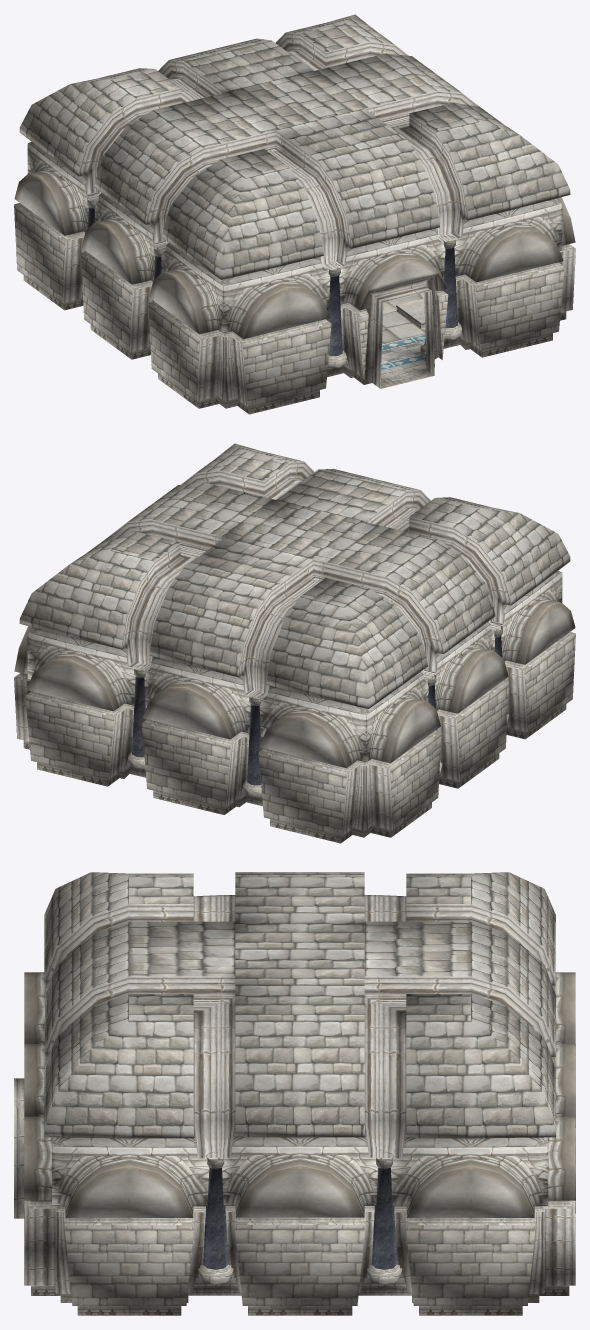
The model's file is stormwind_172.fbx.
3 views of the same model, one above another, from view 1: azimuth 30°, elevation 25°; view 2: azimuth 150°, elevation 25°; view 3: azimuth 270°, elevation 25° (orthographic). The views are drawn at different scales.
Parts seen in each view (by area): view 1: stormwind_172_165, stormwind_172_166, stormwind_172_168, stormwind_172_164, stormwind_172_169, stormwind_172_47, stormwind_172_167; view 2: stormwind_172_165, stormwind_172_166, stormwind_172_168, stormwind_172_164, stormwind_172_169; view 3: stormwind_172_165, stormwind_172_166, stormwind_172_168, stormwind_172_164, stormwind_172_169.
Part boxes in pixels (left/top/right/bottom): stormwind_172_165: left=19, top=14, right=570, bottom=279; stormwind_172_166: left=14, top=32, right=575, bottom=414; stormwind_172_168: left=14, top=143, right=575, bottom=339; stormwind_172_164: left=14, top=204, right=564, bottom=407; stormwind_172_169: left=87, top=207, right=457, bottom=356; stormwind_172_47: left=381, top=293, right=426, bottom=380; stormwind_172_167: left=381, top=334, right=425, bottom=370; stormwind_172_165: left=19, top=443, right=570, bottom=708; stormwind_172_166: left=14, top=461, right=575, bottom=843; stormwind_172_168: left=14, top=572, right=575, bottom=768; stormwind_172_164: left=25, top=633, right=575, bottom=836; stormwind_172_169: left=132, top=636, right=502, bottom=785; stormwind_172_165: left=44, top=872, right=555, bottom=1138; stormwind_172_166: left=14, top=895, right=575, bottom=1315; stormwind_172_168: left=24, top=972, right=575, bottom=1217; stormwind_172_164: left=64, top=1225, right=535, bottom=1305; stormwind_172_169: left=203, top=1167, right=396, bottom=1269.
Bounding box in the file's own units: 40.07 × 20.28 × 40.81.
